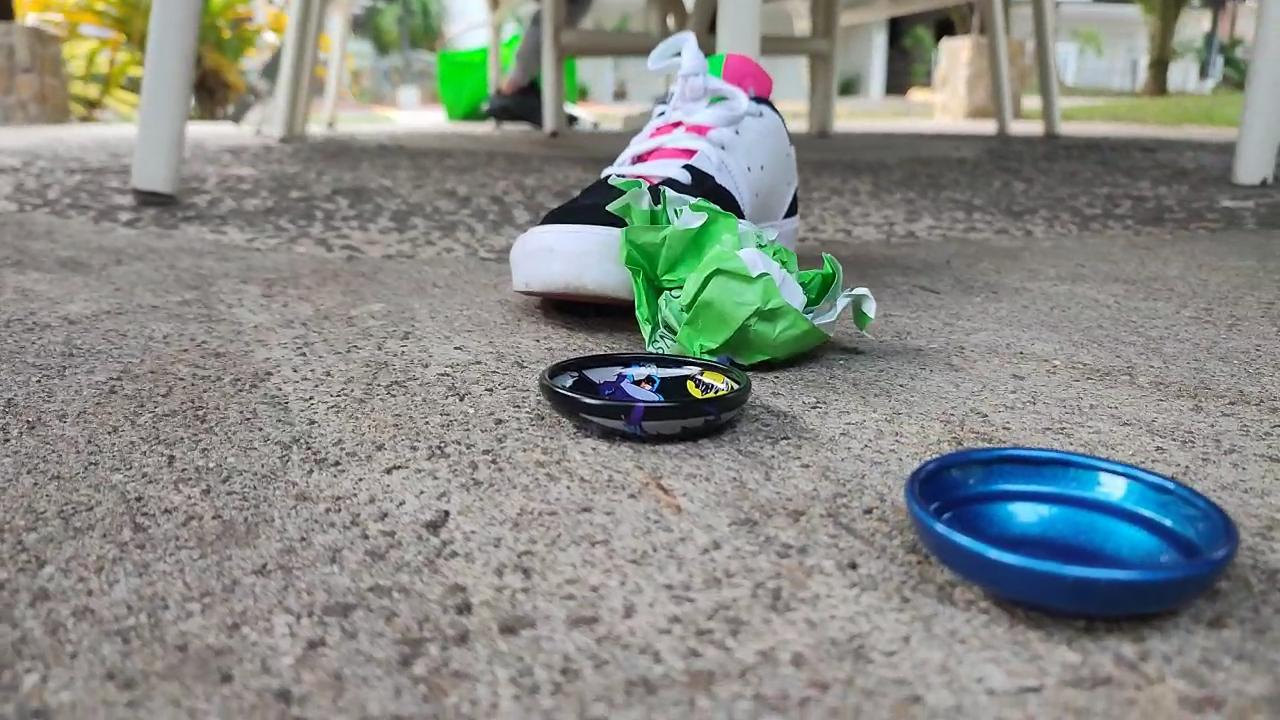Paper: (611, 174, 901, 367)
